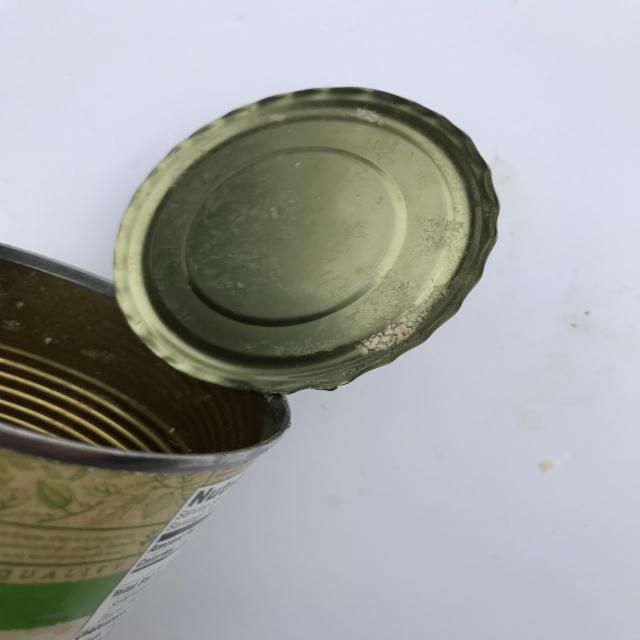metal: (0, 82, 501, 640)
